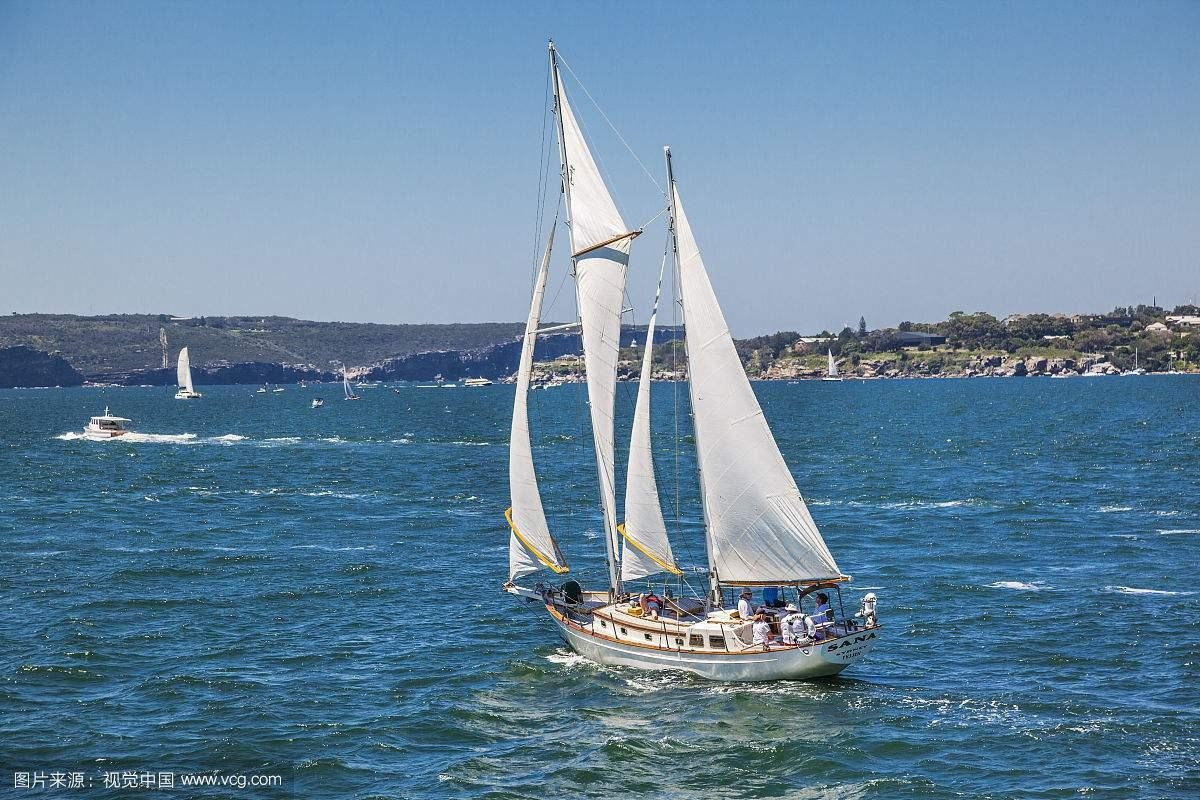fanchuan: (501, 30, 895, 679), (171, 342, 208, 398), (342, 361, 363, 405)
otherboat: (81, 401, 132, 444)
